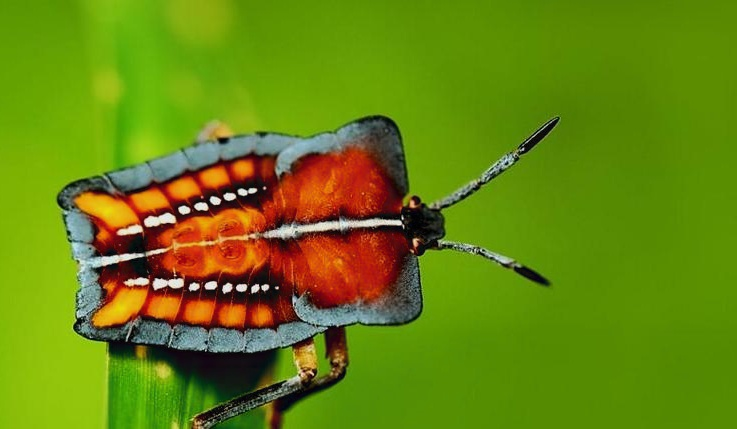Stink_Bug: (75, 123, 502, 354)
